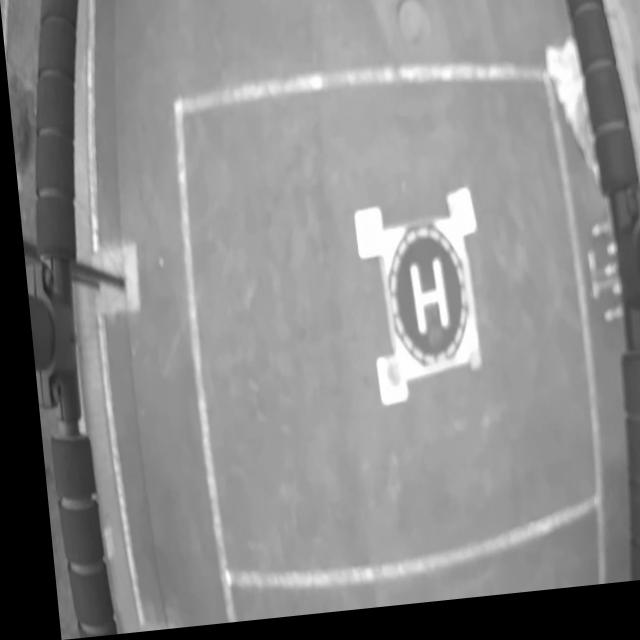Helipad: (403, 267, 443, 346)
